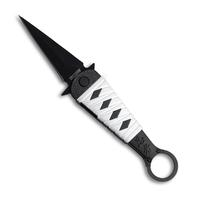knife: (13, 11, 175, 192)
